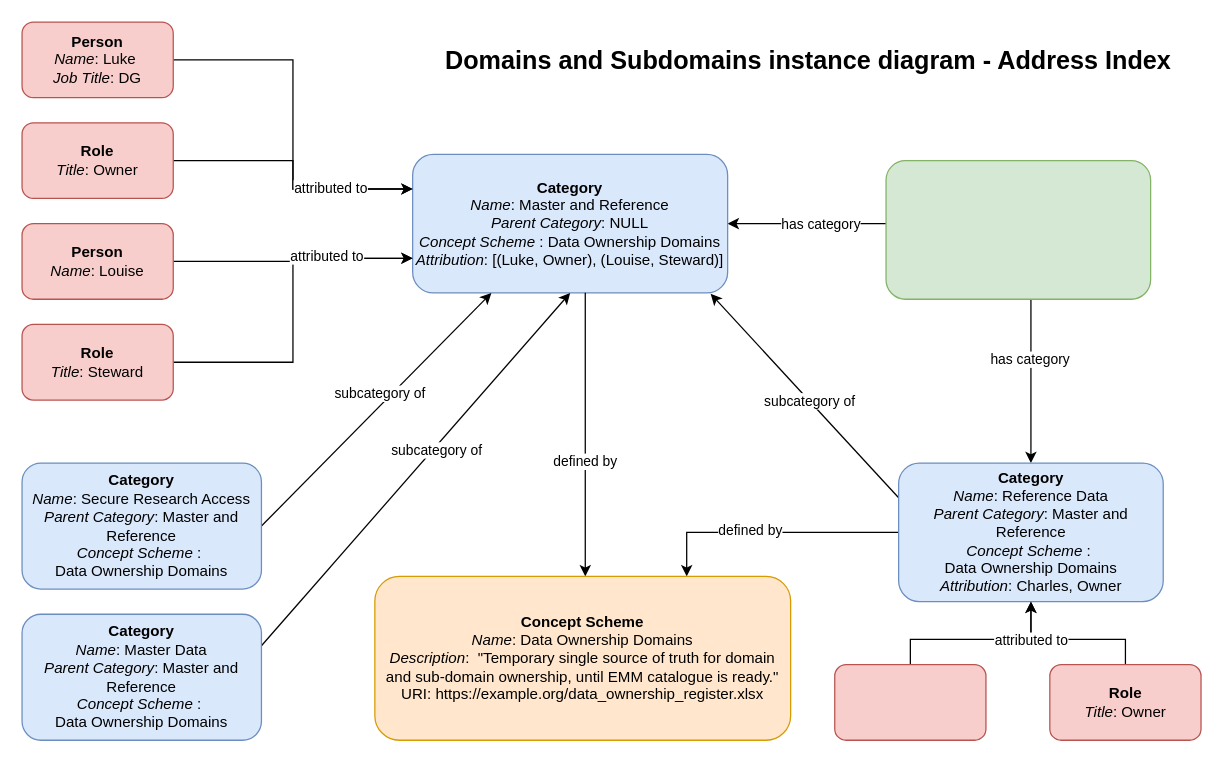
The diagram is 1223 pixels wide and 762 high, and some of its shapes have lost their labels. Each missing label, with the box of its shape:
Dataset Title : Address Index Category : [Master and Reference, Reference Data]: (885, 159, 1151, 299)
Person Name : Charles: (833, 663, 986, 740)
